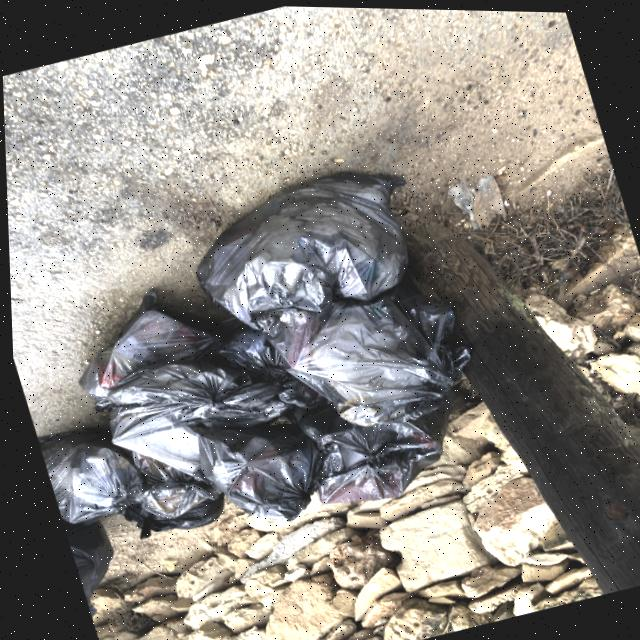Mixed Waste -Black Bag-: (172, 148, 441, 354), (257, 266, 485, 450), (87, 330, 313, 472), (55, 270, 232, 403), (192, 400, 339, 537), (94, 377, 212, 496), (31, 411, 144, 527), (54, 498, 129, 621), (113, 475, 228, 547)
